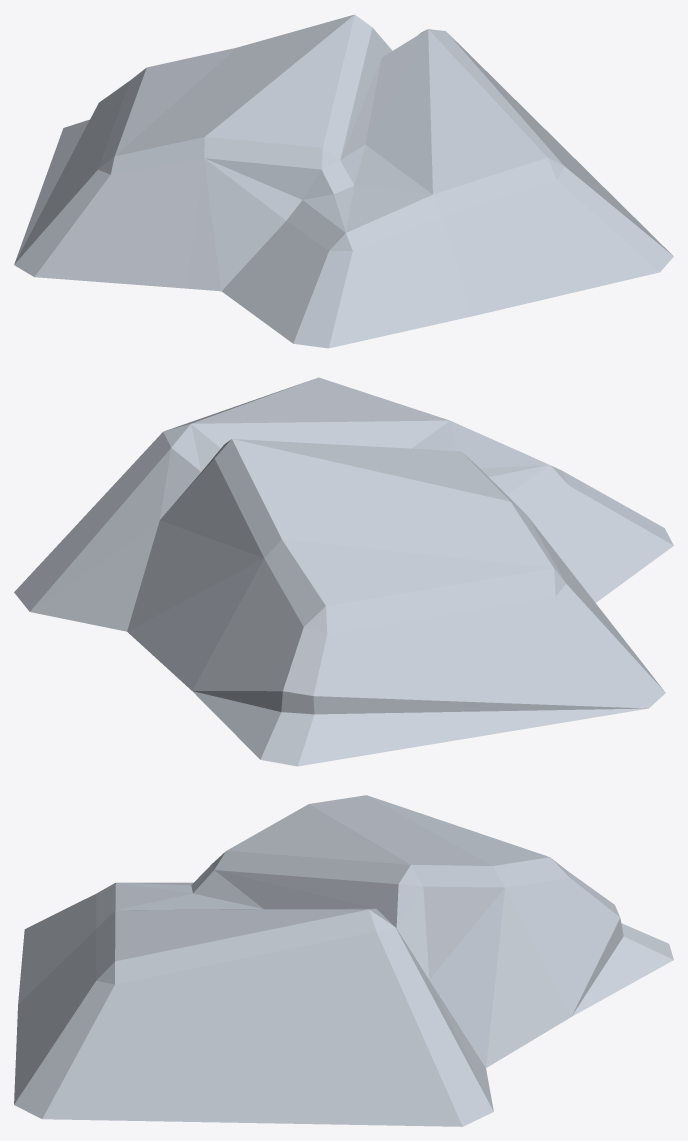
The model's file is model_polytope_rock_medium03.fbx.
3 renders of one model, top to bottom at view 1: azimuth 30°, elevation 25°; view 2: azimuth 150°, elevation 25°; view 3: azimuth 270°, elevation 25°, orthographic. The views are drawn at different scales.
Visible parts, largest first — view 1: model_polytope_rock_medium03; view 2: model_polytope_rock_medium03; view 3: model_polytope_rock_medium03.
Part boxes in pixels (x1=…): model_polytope_rock_medium03: x1=14, y1=14, x2=673, y2=348; model_polytope_rock_medium03: x1=14, y1=377, x2=673, y2=766; model_polytope_rock_medium03: x1=14, y1=795, x2=673, y2=1126.
Size of the model in its own units: 1163 by 336 by 1165.
